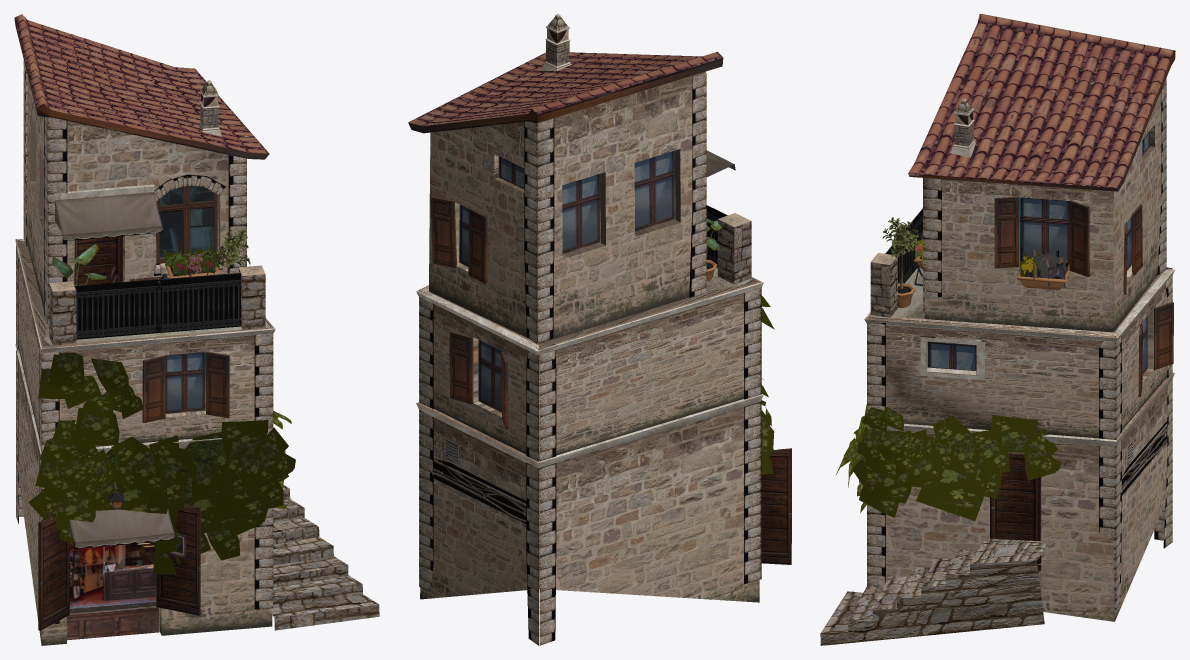
Rendered from house_1.fbx.
3 renders of one model, left to right at view 1: azimuth 30°, elevation 25°; view 2: azimuth 150°, elevation 25°; view 3: azimuth 270°, elevation 25°, orthographic. The views are drawn at different scales.
Visible parts, largest first — view 1: House_1; view 2: House_1; view 3: House_1.
Part boxes in pixels (x1,y1,x2,y2): House_1: [14, 14, 379, 645]; House_1: [408, 14, 791, 645]; House_1: [820, 14, 1175, 645].
Size of the model in its own units: 712 by 1218 by 759.
